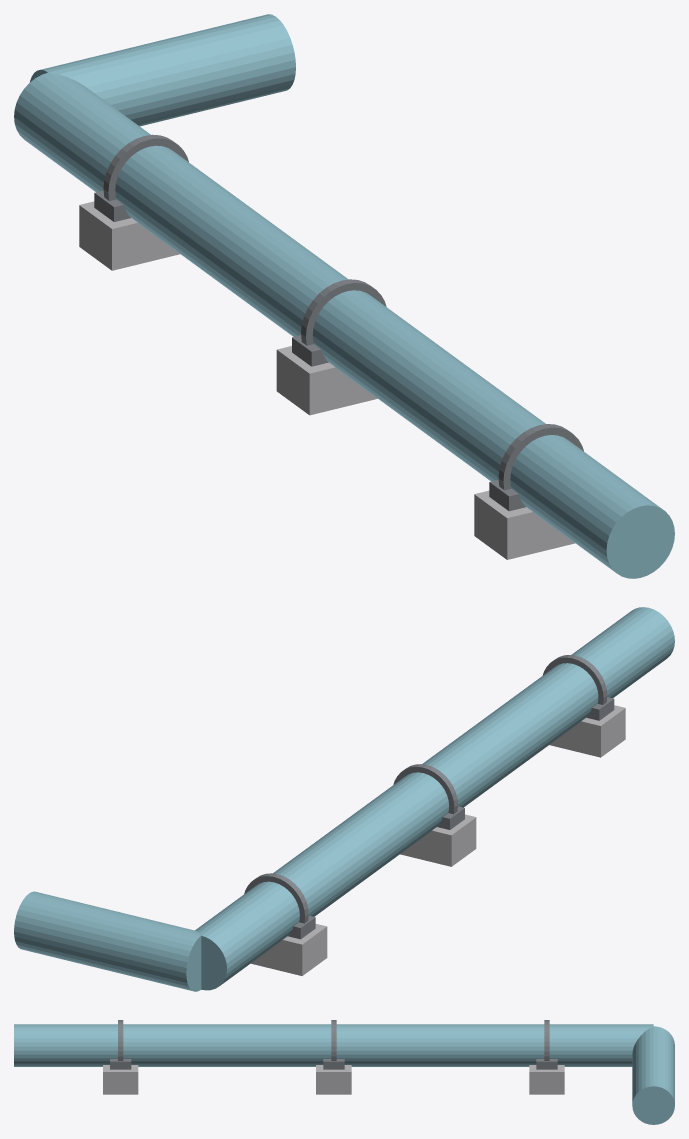
Rendered from harbor_pipeline.glb.
The picture shows the model from 3 angles, top to bottom: view 1: azimuth 30°, elevation 25°; view 2: azimuth 150°, elevation 25°; view 3: azimuth 270°, elevation 25°; orthographic projection. The views are drawn at different scales.
Visible parts, largest first — view 1: Pipe_Straight, Pipe_Turn, Pipe_Pier_0.0, Pipe_Pier_6.0, Pipe_Pier_-6.0, Pipe_Flange_0.0, Pipe_Flange_-6.0, Pipe_Flange_6.0; view 2: Pipe_Straight, Pipe_Turn, Pipe_Pier_6.0, Pipe_Pier_0.0, Pipe_Pier_-6.0, Pipe_Flange_6.0, Pipe_Flange_-6.0, Pipe_Flange_0.0; view 3: Pipe_Straight, Pipe_Turn, Pipe_Pier_0.0, Pipe_Pier_6.0, Pipe_Pier_-6.0, Pipe_Flange_0.0, Pipe_Flange_6.0, Pipe_Flange_-6.0, Pipe_Saddle_0.0, Pipe_Saddle_6.0, Pipe_Saddle_-6.0.
Boxes of the visible parts, x1,y1,x2,y2 form: Pipe_Straight: (14, 72, 674, 578); Pipe_Turn: (29, 14, 295, 126); Pipe_Pier_0.0: (276, 346, 377, 415); Pipe_Pier_6.0: (79, 201, 180, 270); Pipe_Pier_-6.0: (474, 490, 574, 559); Pipe_Flange_0.0: (301, 279, 386, 345); Pipe_Flange_-6.0: (498, 424, 583, 490); Pipe_Flange_6.0: (103, 134, 188, 200); Pipe_Straight: (195, 607, 674, 990); Pipe_Turn: (14, 891, 201, 991); Pipe_Pier_6.0: (251, 924, 327, 975); Pipe_Pier_0.0: (400, 814, 476, 866); Pipe_Pier_-6.0: (549, 705, 625, 757); Pipe_Flange_6.0: (244, 873, 308, 923); Pipe_Flange_-6.0: (542, 655, 607, 704); Pipe_Flange_0.0: (393, 764, 457, 814); Pipe_Straight: (14, 1024, 653, 1066); Pipe_Turn: (632, 1026, 674, 1124); Pipe_Pier_0.0: (316, 1065, 351, 1094); Pipe_Pier_6.0: (529, 1065, 564, 1094); Pipe_Pier_-6.0: (103, 1065, 138, 1094); Pipe_Flange_0.0: (331, 1020, 336, 1060); Pipe_Flange_6.0: (544, 1020, 549, 1060); Pipe_Flange_-6.0: (118, 1020, 123, 1060); Pipe_Saddle_0.0: (323, 1059, 344, 1069); Pipe_Saddle_6.0: (536, 1059, 557, 1069); Pipe_Saddle_-6.0: (110, 1059, 131, 1069).
Size of the model in its own units: 4.9 by 1.82 by 18.6.
